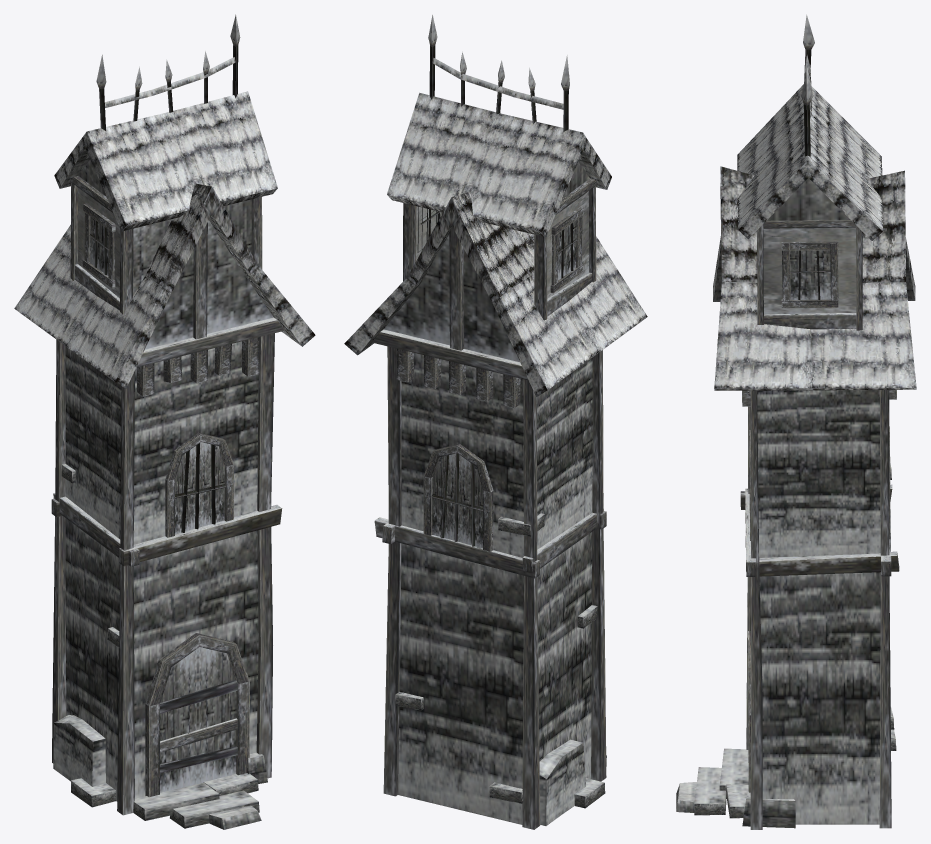
File: S_Build_Snowland003.FBX
The picture shows the model from 3 angles, left to right: view 1: azimuth 30°, elevation 25°; view 2: azimuth 150°, elevation 25°; view 3: azimuth 270°, elevation 25°; orthographic projection.
Visible parts, largest first — view 1: S_Build_Snowland003; view 2: S_Build_Snowland003; view 3: S_Build_Snowland003.
Part boxes in pixels (x1,y1,x2,y2): S_Build_Snowland003: [14, 14, 315, 829]; S_Build_Snowland003: [344, 15, 647, 829]; S_Build_Snowland003: [676, 14, 916, 829].
Bounding box in the file's own units: 367 × 374 × 1302.
